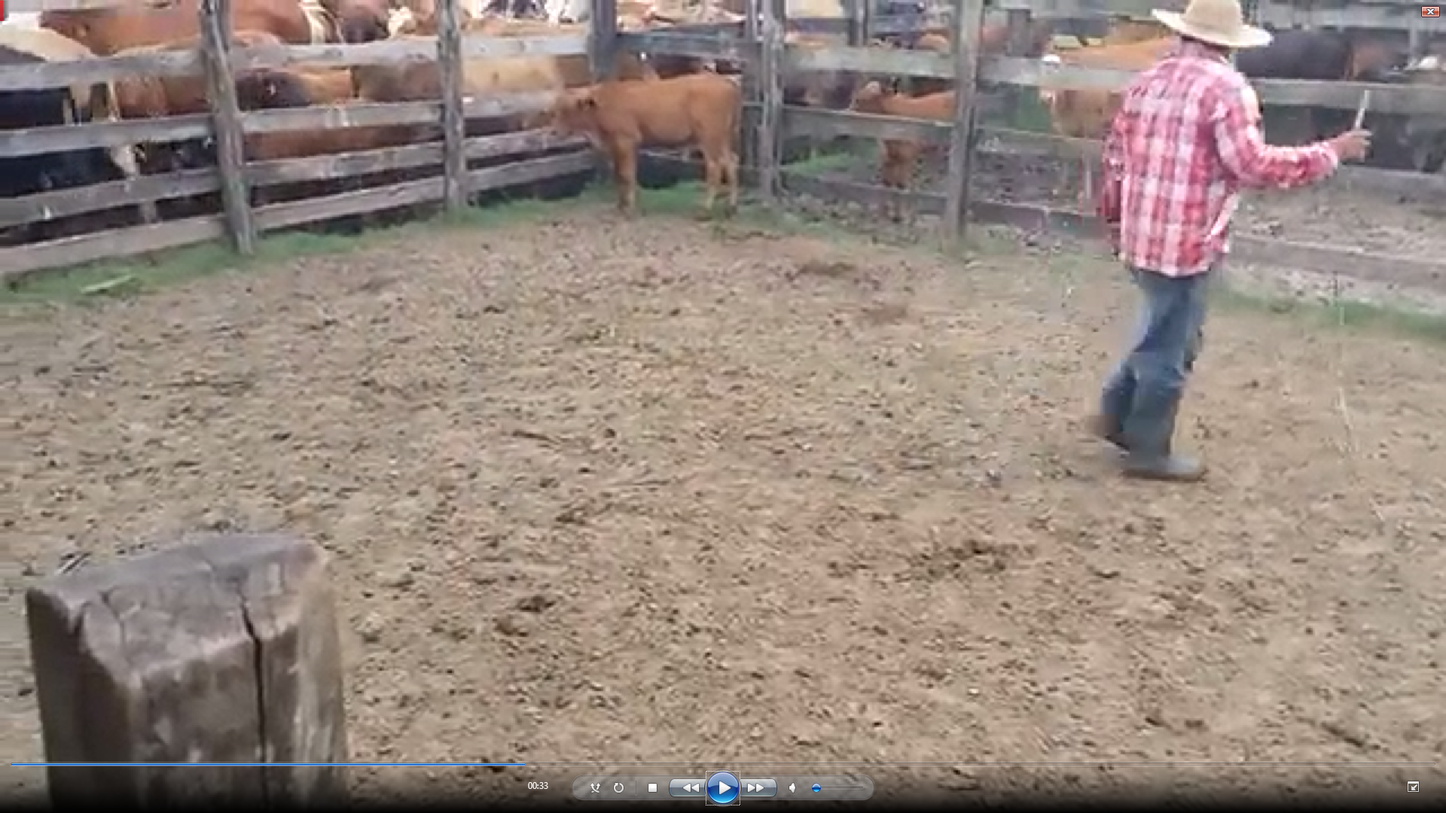bovino: (550, 72, 756, 220)
